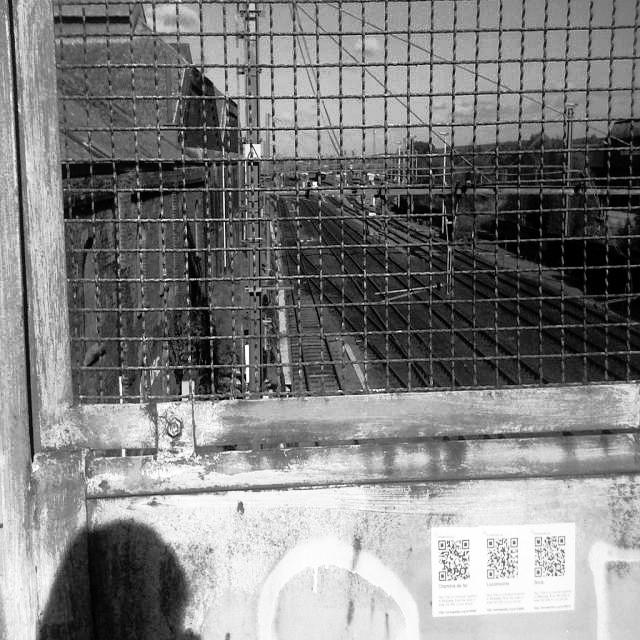qr_code: (439, 539, 470, 580), (534, 536, 565, 577), (487, 538, 517, 579)
